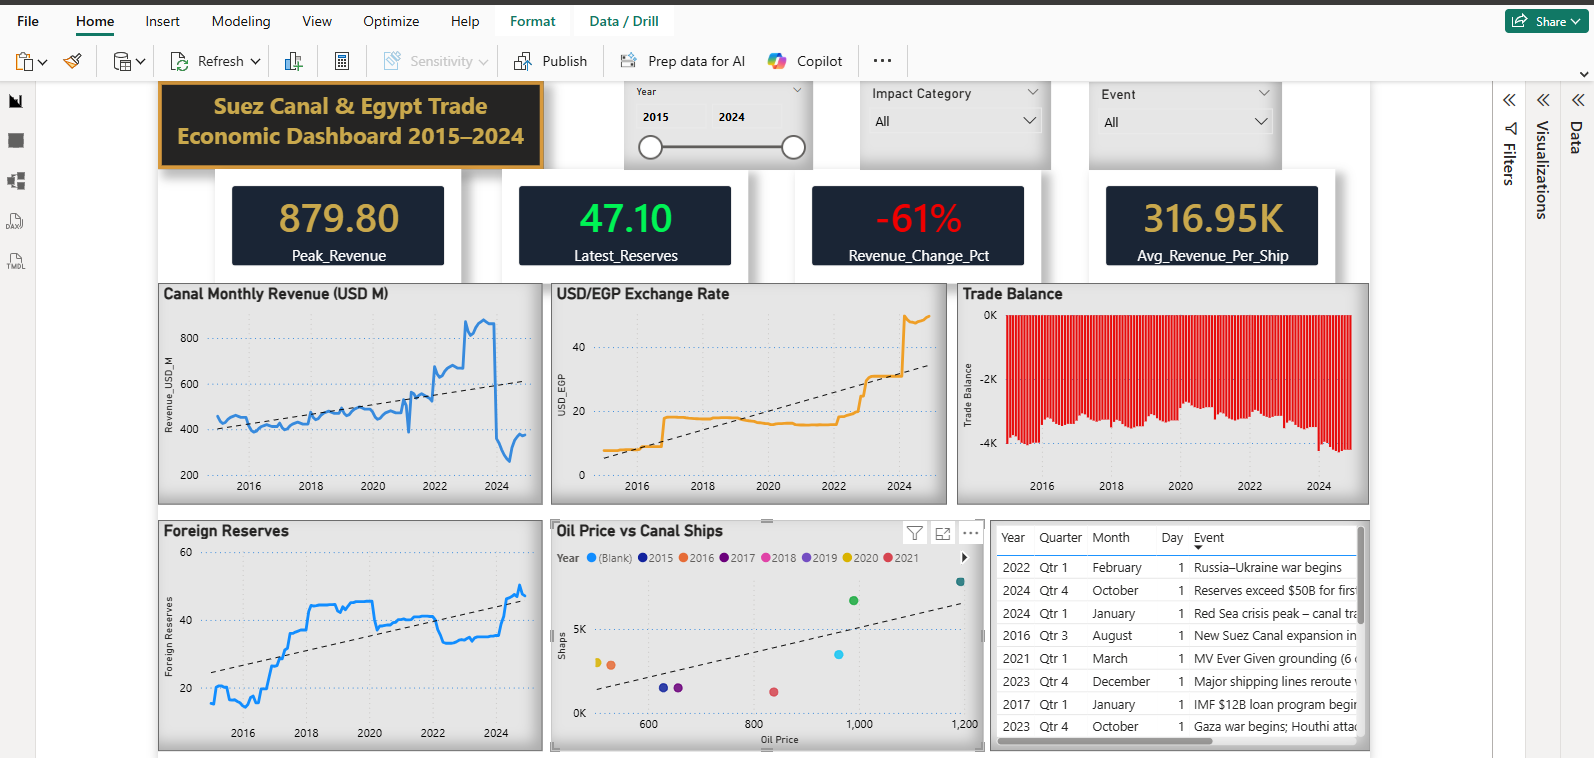

This screenshot's page, from the dashboard's own definition file:
{"tool":"powerbi","page":{"name":"Page 1","canvas":[1280,720],"ordinal":0},"visuals":[{"type":"textbox","box":[0,0,406.7,93.3],"z":0},{"type":"cardVisual","fields":{"Data":["Suez_Canal (2).daxPeak_Revenue"]},"box":[60,92.7,260,120.9],"z":1000},{"type":"cardVisual","fields":{"Data":["Suez_Canal (2).Revenue_Change_Pct"]},"box":[672.7,92.7,260,120.9],"z":2000},{"type":"cardVisual","fields":{"Data":["Macro_Indicators (2).Latest_Reserves"]},"box":[362.7,92.7,260,120.9],"z":3000},{"type":"cardVisual","fields":{"Data":["Suez_Canal (2).daxAvg_Revenue_Per_Ship"]},"box":[982.7,92.7,260,120.9],"z":4000},{"type":"lineChart","title":"Canal Monthly Revenue (USD M)","fields":{"Category":["Suez_Canal (2).Date"],"Y":["Sum(Suez_Canal (2).Revenue(USD M))"]},"box":[0,213.6,406.4,233.6],"z":5000},{"type":"areaChart","title":"USD/EGP Exchange Rate","fields":{"Category":["Macro_Indicators (2).Date"],"Y":["Sum(Macro_Indicators (2).USD/EGPExchange Rate)"]},"box":[414.5,213.6,418.2,233.6],"z":6000},{"type":"clusteredColumnChart","title":"Trade Balance","fields":{"Y":["Sum(Foreign_Trade (2).Trade Balance(USD M))"],"Category":["Foreign_Trade (2).Date"]},"box":[843.6,213.6,435.5,233.6],"z":7000},{"type":"areaChart","title":"Foreign Reserves","fields":{"Category":["Macro_Indicators (2).Date"],"Y":["Sum(Macro_Indicators (2).Foreign Reserves(USD Billion))"]},"box":[0,463.6,406.4,243.6],"z":8000},{"type":"scatterChart","title":"Oil Price vs Canal Ships","fields":{"Y":["Sum(Suez_Canal (2).Ships(count))"],"X":["Sum(Macro_Indicators (2).Brent Oil(USD/barrel))"],"Series":["Macro_Indicators (2).Year"]},"box":[414.5,463.6,457.3,243.6],"z":9000},{"type":"tableEx","fields":{"Values":["Events (2).Date.Variation.Date Hierarchy.Year","Events (2).Date.Variation.Date Hierarchy.Quarter","Events (2).Date.Variation.Date Hierarchy.Month","Events (2).Date.Variation.Date Hierarchy.Day","Events (2).Event","Events (2).Impact Category"]},"box":[878.2,463.6,401.8,243.6],"z":10000},{"type":"slicer","fields":{"Values":["Suez_Canal (2).Year"]},"box":[492.2,0,200.5,93.8],"z":11000},{"type":"slicer","fields":{"Values":["Events (2).Impact Category"]},"box":[741.5,0,201.8,93.8],"z":12000},{"type":"slicer","fields":{"Values":["Events (2).Event"]},"box":[983.1,1.3,204.3,92.5],"z":13000}]}

Visuals, with their boxes on the page's 1280x720 design canvas (x1, y1, x2, y2). These are canvas units, not pixel positions in the 1594x758 screenshot, which may show the page scaled, cropped or inside an application window:
textbox: (0, 0, 407, 93)
cardVisual - Suez_Canal (2).daxPeak_Revenue: (60, 93, 320, 214)
cardVisual - Suez_Canal (2).Revenue_Change_Pct: (673, 93, 933, 214)
cardVisual - Macro_Indicators (2).Latest_Reserves: (363, 93, 623, 214)
cardVisual - Suez_Canal (2).daxAvg_Revenue_Per_Ship: (983, 93, 1243, 214)
"Canal Monthly Revenue (USD M)" lineChart: (0, 214, 406, 447)
"USD/EGP Exchange Rate" areaChart: (414, 214, 833, 447)
"Trade Balance" clusteredColumnChart: (844, 214, 1279, 447)
"Foreign Reserves" areaChart: (0, 464, 406, 707)
"Oil Price vs Canal Ships" scatterChart: (414, 464, 872, 707)
tableEx - Events (2).Date.Variation.Date Hierarchy.Year x Events (2).Date.Variation.Date Hierarchy.Quarter: (878, 464, 1280, 707)
slicer - Suez_Canal (2).Year: (492, 0, 693, 94)
slicer - Events (2).Impact Category: (742, 0, 943, 94)
slicer - Events (2).Event: (983, 1, 1187, 94)
